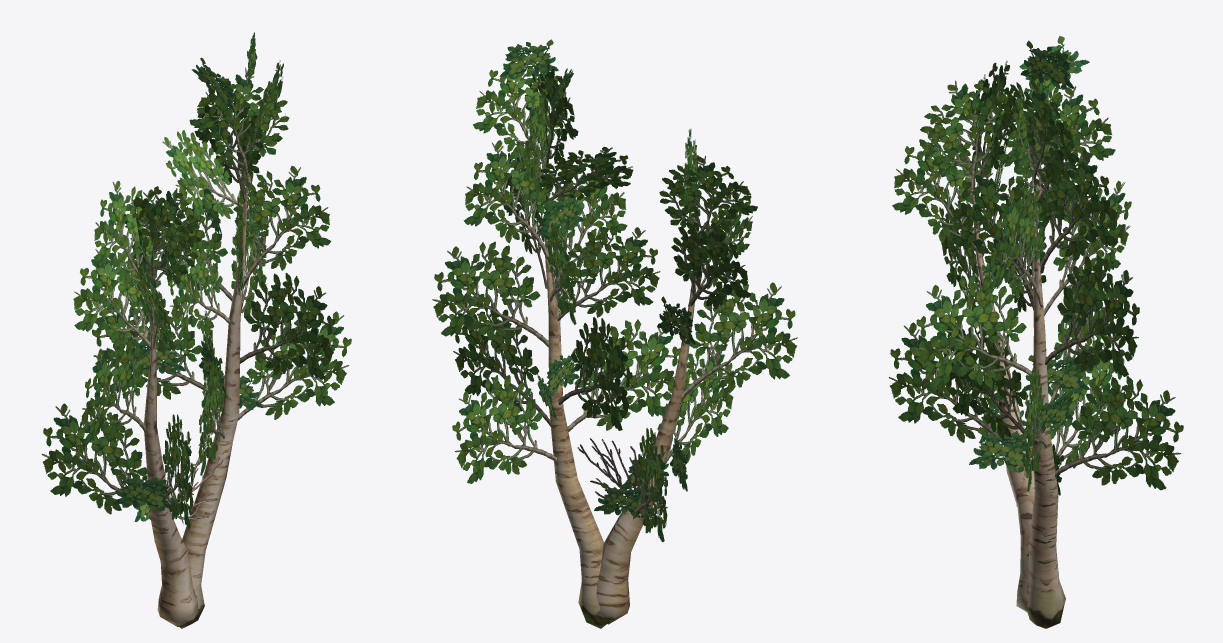
Rendered from White_BirchE.FBX.
3 views of the same model, side by side, from view 1: azimuth 30°, elevation 25°; view 2: azimuth 150°, elevation 25°; view 3: azimuth 270°, elevation 25° (orthographic). The views are drawn at different scales.
Visible parts, largest first — view 1: White_BirchE; view 2: White_BirchE; view 3: White_BirchE.
Boxes of the visible parts, x1,y1,x2,y2 form: White_BirchE: (41,32,351,628); White_BirchE: (432,39,797,628); White_BirchE: (889,35,1183,628).
Bounding box in the file's own units: 978 × 1549 × 773.
